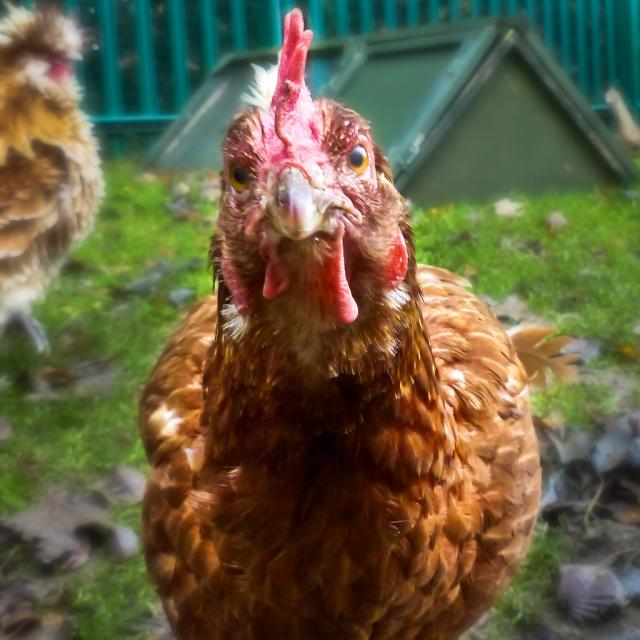Chicken: (122, 52, 585, 634), (0, 0, 106, 375)
